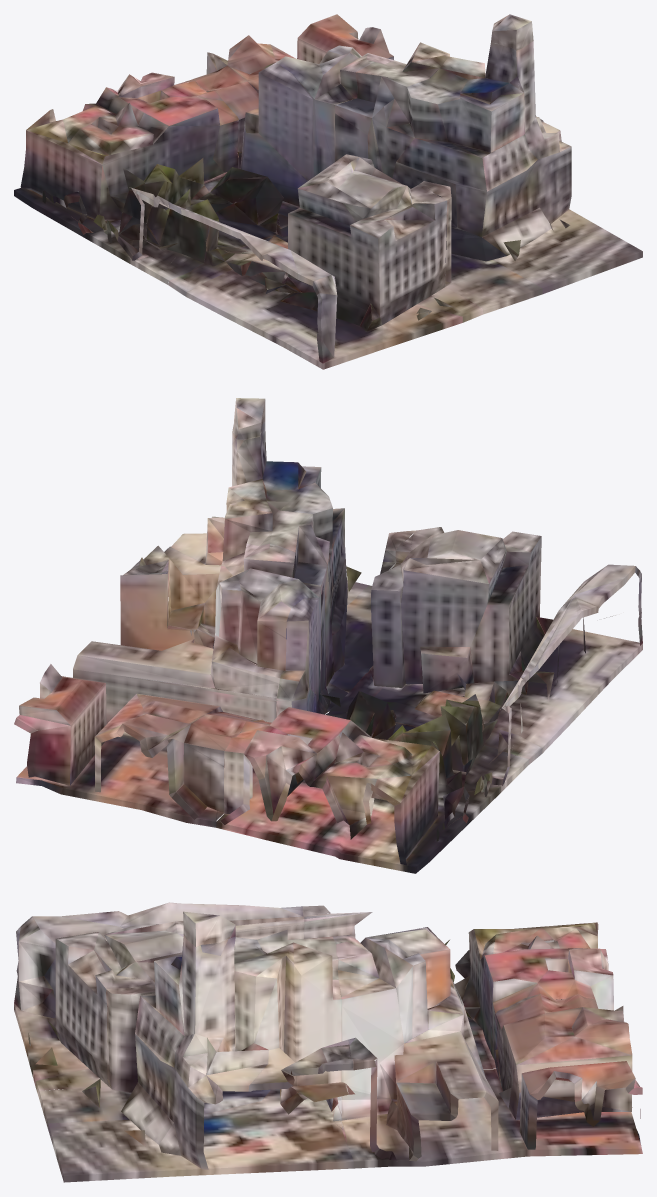
3 views of the same model, one above another, from view 1: azimuth 30°, elevation 25°; view 2: azimuth 150°, elevation 25°; view 3: azimuth 270°, elevation 25° (orthographic). The views are drawn at different scales.
Visible parts, largest first — view 1: Mesh_0; view 2: Mesh_0; view 3: Mesh_0.
Boxes of the visible parts, x1=… form: Mesh_0: x1=14, y1=14, x2=642, y2=369; Mesh_0: x1=14, y1=398, x2=642, y2=873; Mesh_0: x1=14, y1=902, x2=642, y2=1182.
Bounding box in the file's own units: 133 × 73.05 × 165.
Materials: 1 (1 with a texture image).
